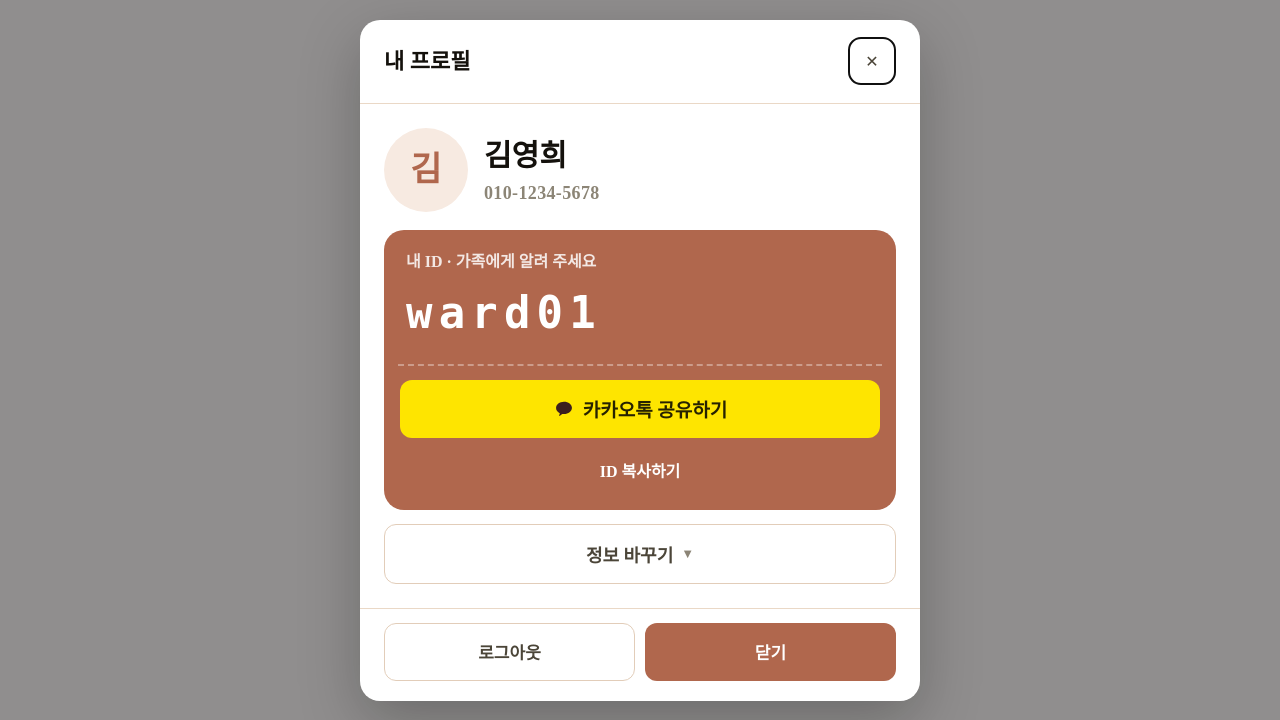
Test: WardProfileModal (Chrome) › 처음에는 이름·전화와 내 ID 카드만, 정보 바꾸기를 누르면 계정·내 정보 목록을 보인다
The image size is (1280, 720).
expect the heading "김영희" is shown: met, box x1=484 y1=138 x2=567 y2=172
expect the text "010-1234-5678" is shown: met, box x1=484 y1=180 x2=600 y2=206
Click the button "정보 바꾸기 ▼".
click(640, 554)  # box x1=384 y1=524 x2=896 y2=584
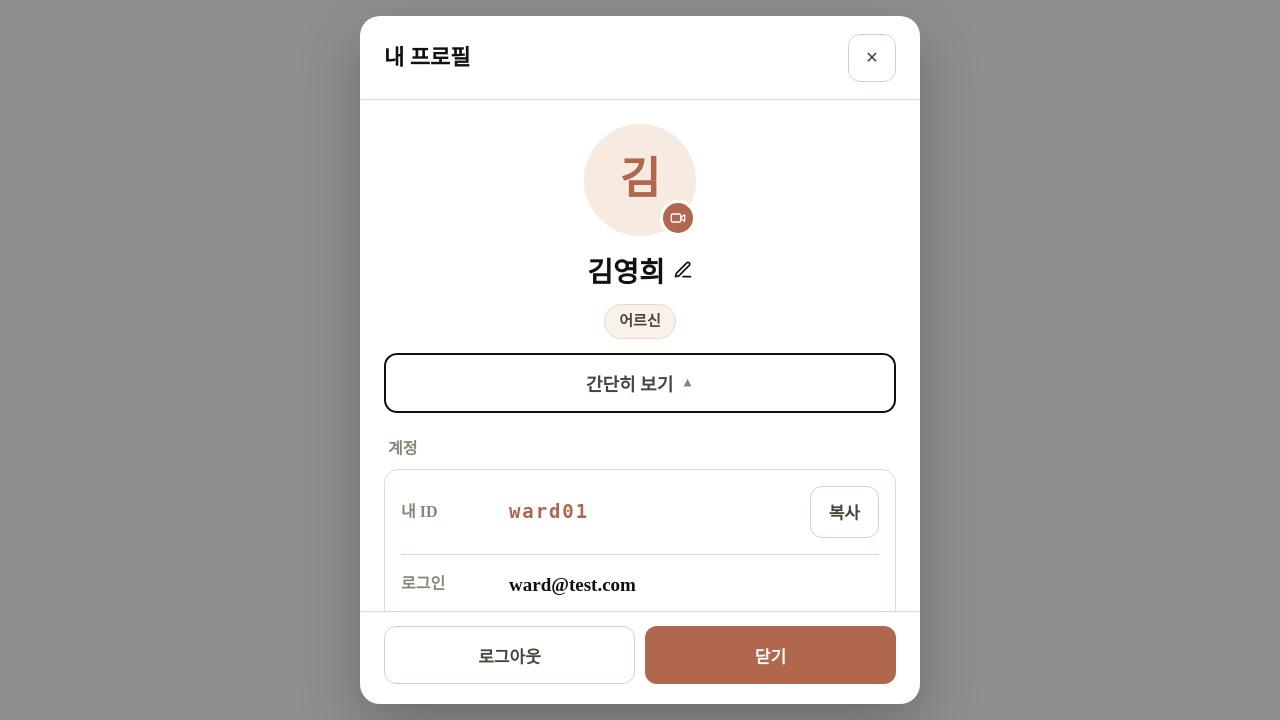
expect the button "닫기" is shown: met, box x1=645 y1=626 x2=896 y2=684
expect the button "간단히 보기 ▼" is shown: met, box x1=384 y1=352 x2=896 y2=412
